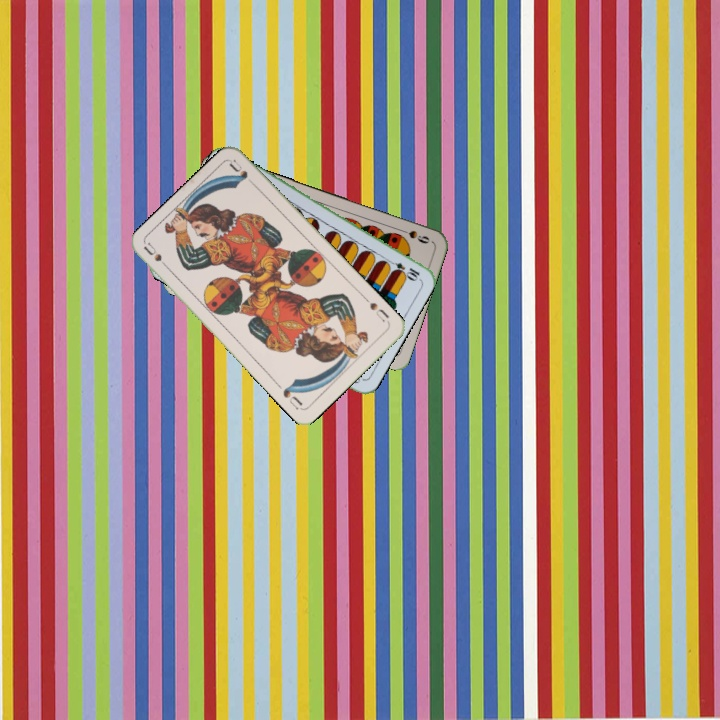E10: (383, 256, 422, 282)
S9: (394, 225, 432, 246)
SU: (140, 239, 174, 274), (360, 293, 391, 325)
